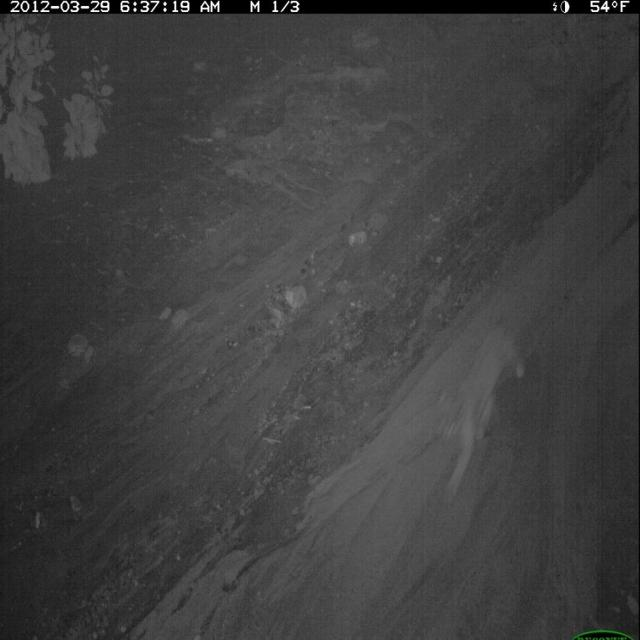bobcat: (434, 321, 531, 507)
